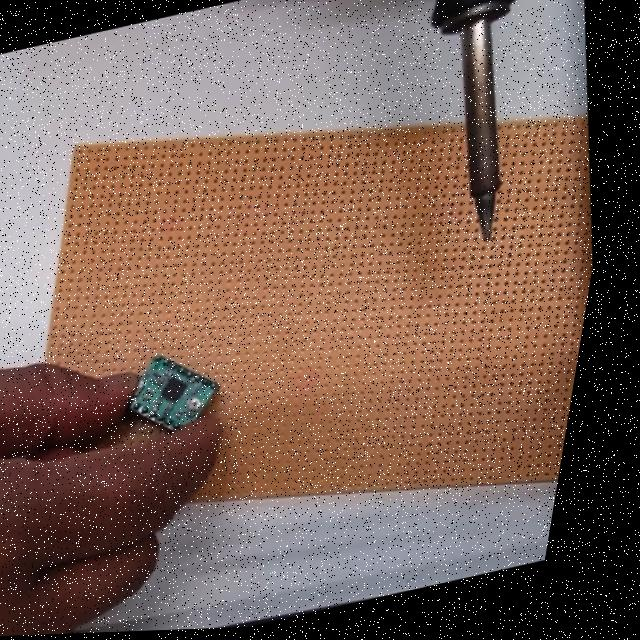Chip: (106, 337, 251, 446)
soldering_iron: (384, 0, 570, 261)
